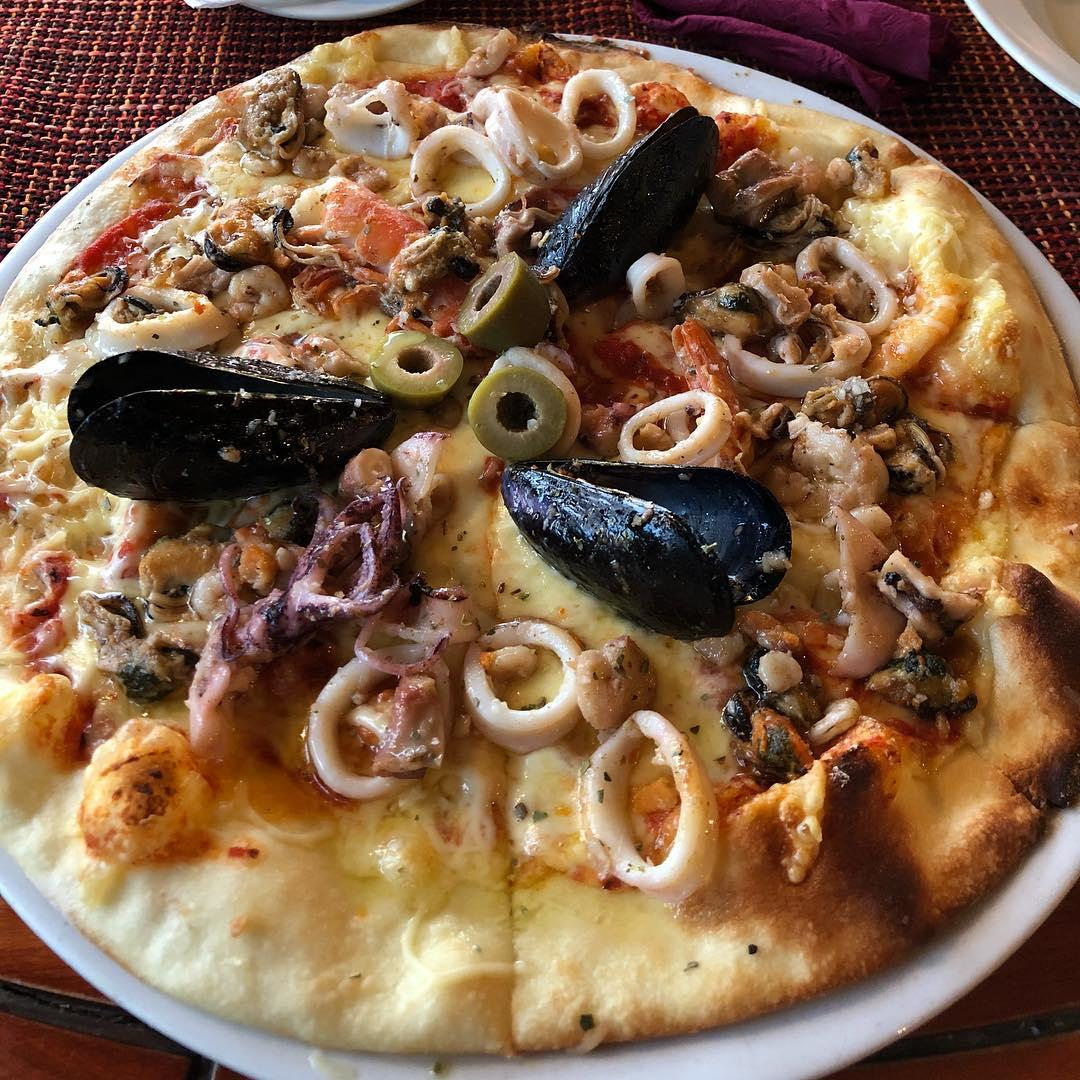Olives: (466, 361, 568, 456), (455, 258, 545, 352), (372, 330, 463, 401)
Pizza: (0, 23, 1080, 1053)
